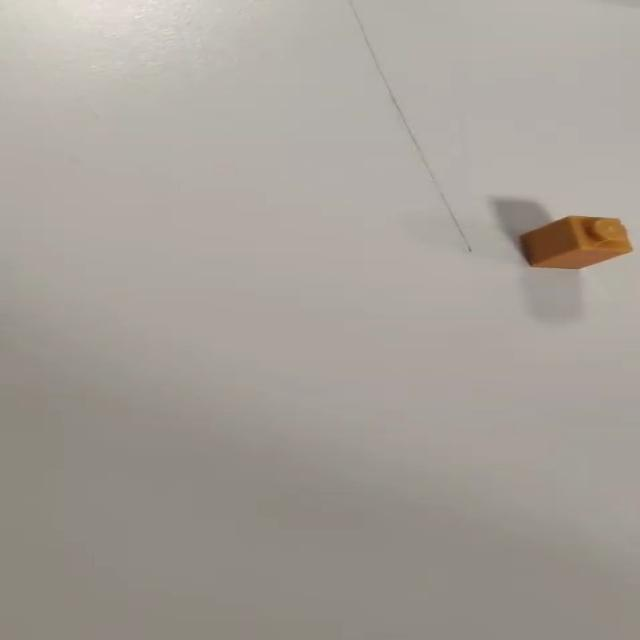C1x1x1: (516, 214, 634, 269)
